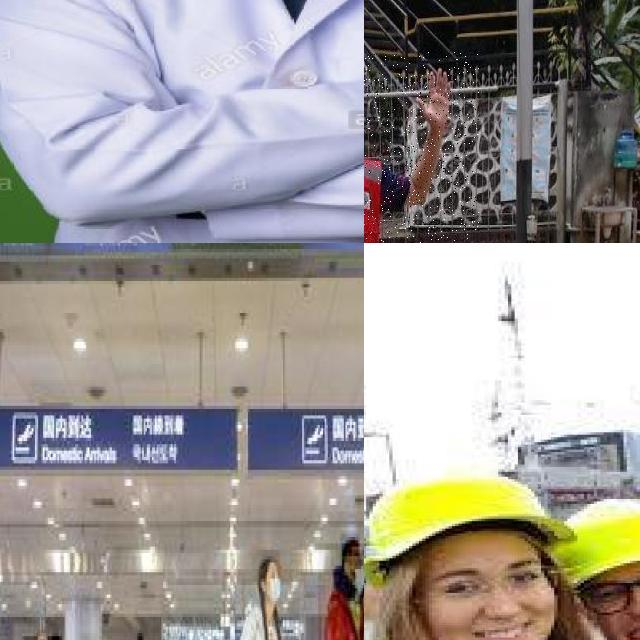face_mask: (266, 566, 282, 604), (350, 549, 364, 591)
face_nomask: (420, 558, 556, 640), (582, 569, 640, 640)
glasses: (573, 562, 640, 626)
head_helmet: (364, 472, 586, 560), (548, 497, 640, 586)
head_nohelmet: (341, 534, 362, 559), (260, 550, 280, 572)
person: (1, 0, 364, 243), (364, 468, 619, 640), (364, 52, 479, 243), (235, 549, 291, 640), (318, 543, 364, 640)
